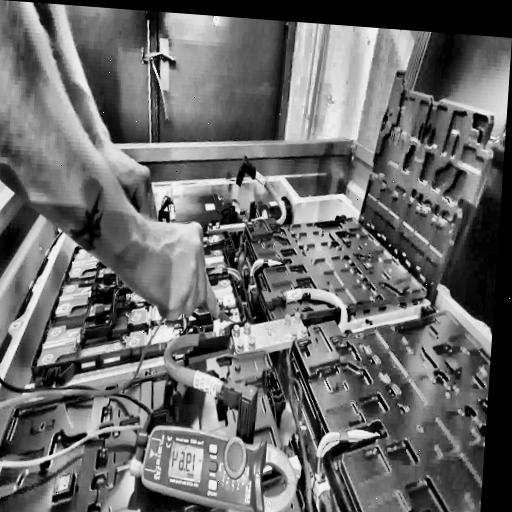high_volt_cable: (160, 323, 231, 398), (260, 283, 350, 332), (235, 154, 290, 227), (365, 511, 480, 512)
low_volt_cable: (256, 423, 383, 484), (283, 352, 318, 512), (206, 252, 285, 293), (236, 233, 256, 322)
nut: (232, 323, 241, 338), (247, 337, 256, 351), (293, 311, 302, 324), (289, 328, 298, 341), (242, 321, 251, 334), (236, 340, 245, 353), (284, 314, 293, 326), (300, 326, 308, 337), (207, 222, 213, 229), (215, 221, 220, 229), (250, 216, 255, 224), (244, 219, 248, 225)
